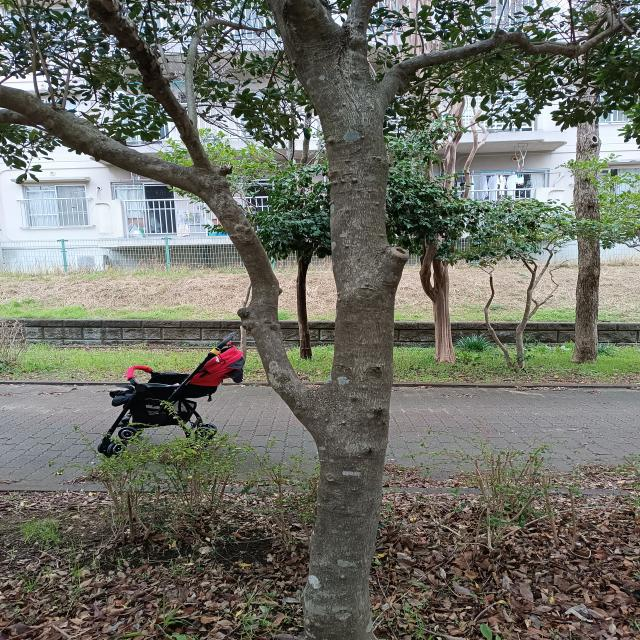Branch: (318, 78, 408, 381), (200, 176, 307, 399), (268, 0, 372, 108), (72, 125, 218, 195)
Twig: (86, 0, 221, 175), (385, 3, 623, 88), (184, 18, 272, 141), (1, 86, 87, 148), (0, 103, 91, 126), (343, 1, 381, 40)
